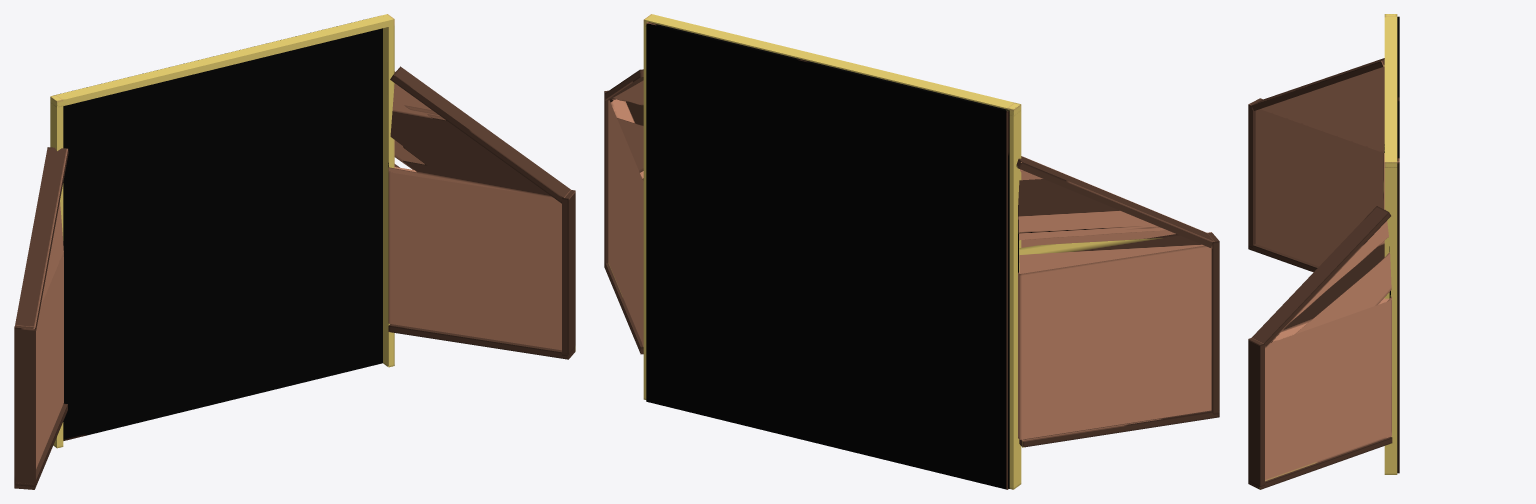
The model's file is Dooropen.obj.
3 views of the same model, side by side, from view 1: azimuth 30°, elevation 25°; view 2: azimuth 150°, elevation 25°; view 3: azimuth 270°, elevation 25° (orthographic). The views are drawn at different scales.
Parts seen in each view (by area): view 1: cube, pyramid; view 2: cube, pyramid; view 3: cube, pyramid.
Boxes of the visible parts, x1=… form: cube: x1=14, y1=14, x2=575, y2=489; pyramid: x1=40, y1=71, x2=552, y2=306; cube: x1=604, y1=14, x2=1219, y2=489; pyramid: x1=609, y1=80, x2=1203, y2=273; cube: x1=1248, y1=14, x2=1399, y2=489; pyramid: x1=1260, y1=66, x2=1391, y2=342.
Bounding box in the file's own units: 9.32 × 5.5 × 4.37.
